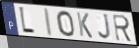I: (44, 6, 54, 37)
J: (97, 13, 113, 41)
K: (75, 11, 94, 40)
L: (18, 5, 36, 36)
O: (55, 10, 76, 38)
R: (112, 14, 134, 44)
